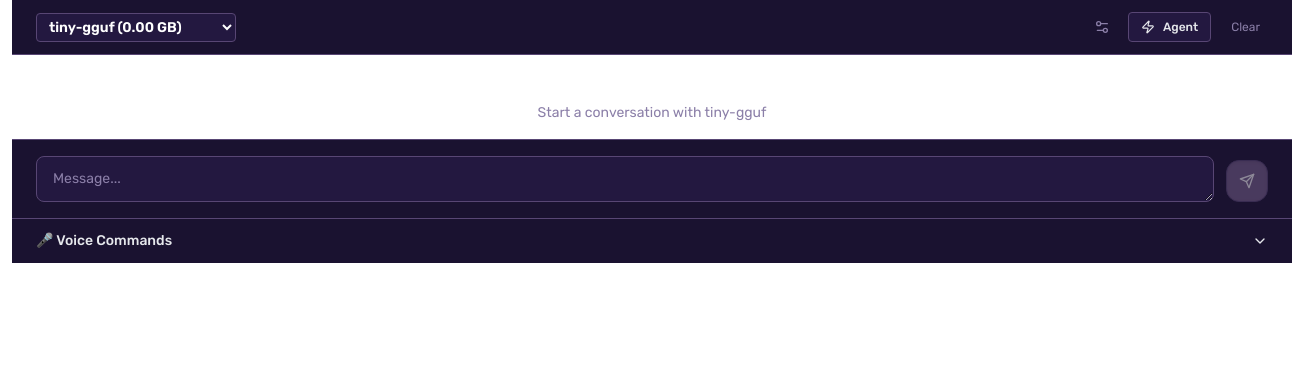
routes chat through model-manager when the active model is a model-manager model
This screenshot has width=1304, height=368.
In the text box named "chat message input": (625, 179) x1=36 y1=156 x2=1214 y2=202, type "hello"
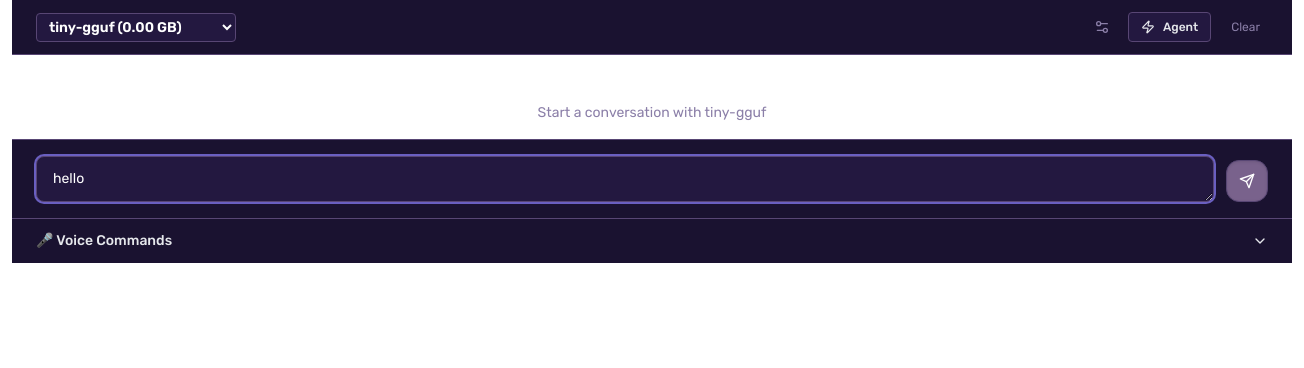
Click the button named "Send message": (1247, 181) x1=1226 y1=160 x2=1268 y2=202
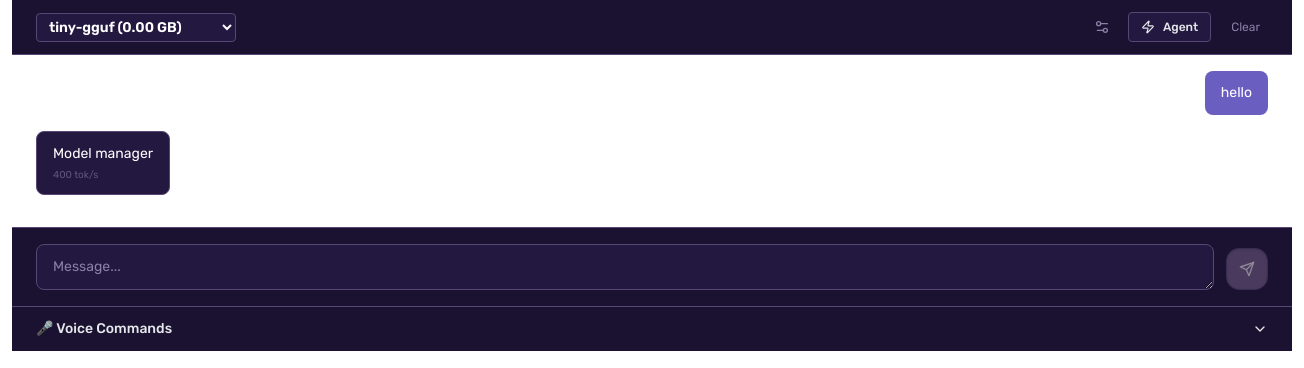
Expected: the text "Model manager" is shown, x1=53 y1=144 x2=153 y2=164
